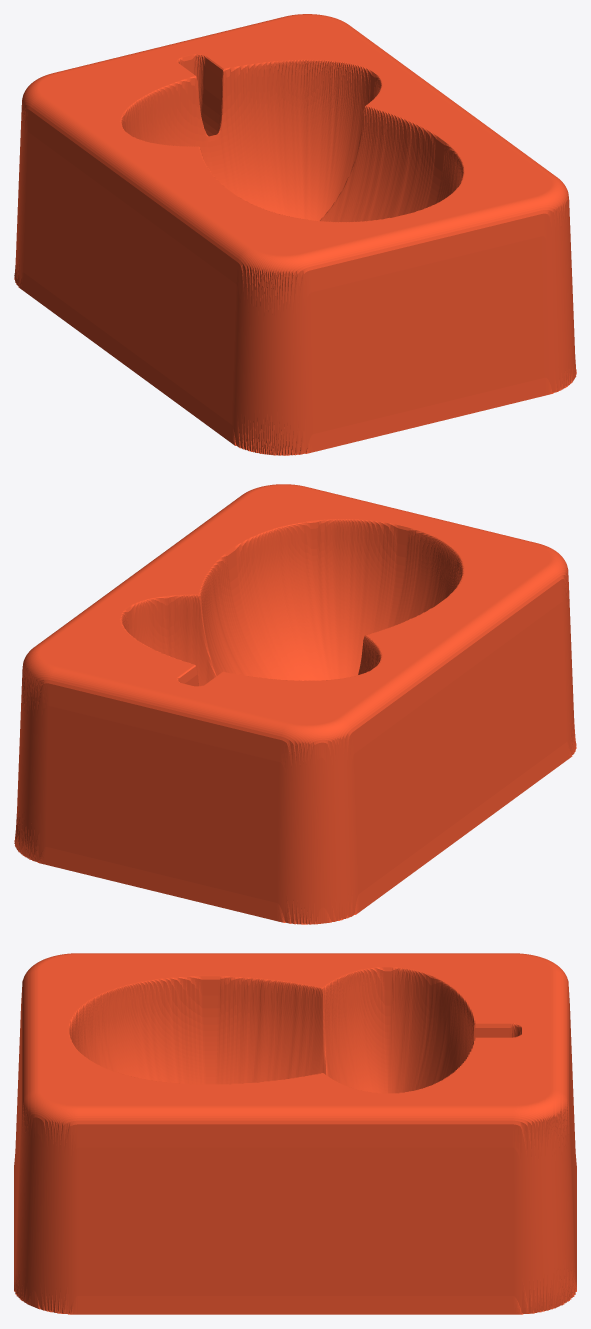
File: mold.glb
The picture shows the model from 3 angles, top to bottom: view 1: azimuth 30°, elevation 25°; view 2: azimuth 150°, elevation 25°; view 3: azimuth 270°, elevation 25°; orthographic projection. The views are drawn at different scales.
Parts seen in each view (by area): view 1: geometry_0; view 2: geometry_0; view 3: geometry_0.
Part boxes in pixels (<box>): geometry_0: <box>14,14,576,455</box>; geometry_0: <box>14,484,576,924</box>; geometry_0: <box>14,953,576,1314</box>.
Size of the model in its own units: 0.0578 by 0.031 by 0.0798.
